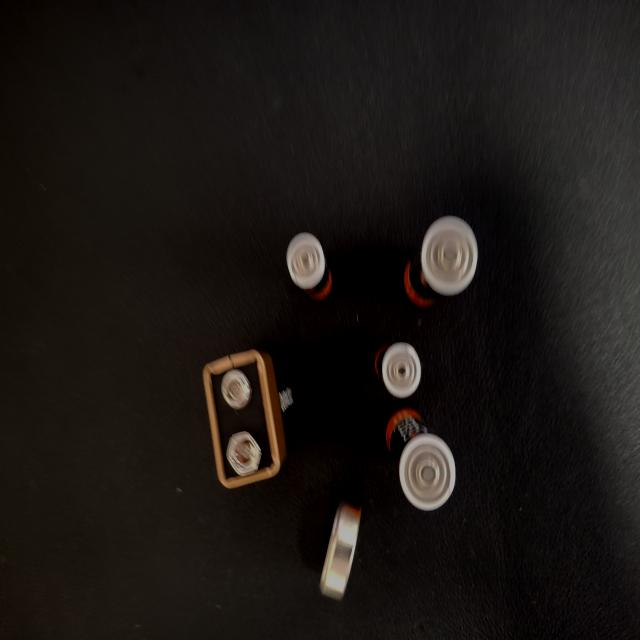9V: (342, 152, 437, 290)
AA: (184, 130, 254, 232), (162, 333, 236, 424)
AAA: (307, 340, 353, 408), (219, 242, 265, 298)
COIN: (279, 39, 320, 140)
